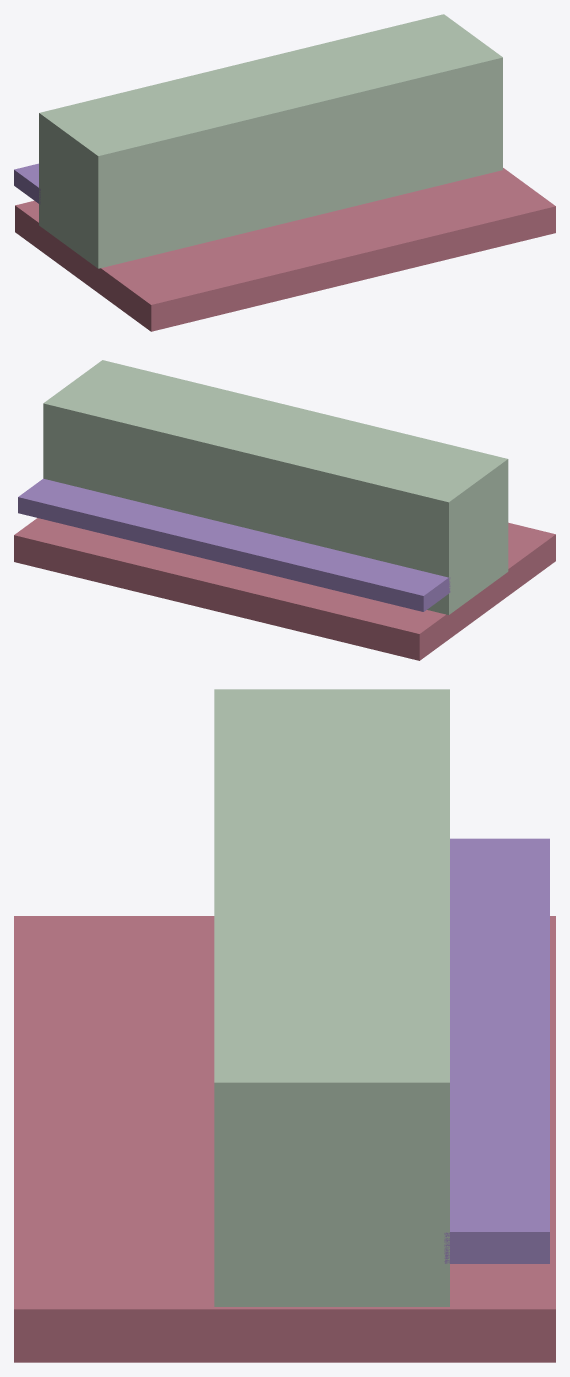
3 renders of one model, top to bottom at view 1: azimuth 30°, elevation 25°; view 2: azimuth 150°, elevation 25°; view 3: azimuth 270°, elevation 25°, orthographic. The views are drawn at different scales.
Visible parts, largest first — view 1: world; view 2: world; view 3: world.
Boxes of the visible parts, x1,y1,x2,y2 form: world: (14,14,555,331); world: (14,360,555,660); world: (14,689,555,1362).
Size of the model in its own units: 7.95 by 2.6 by 4.6.
